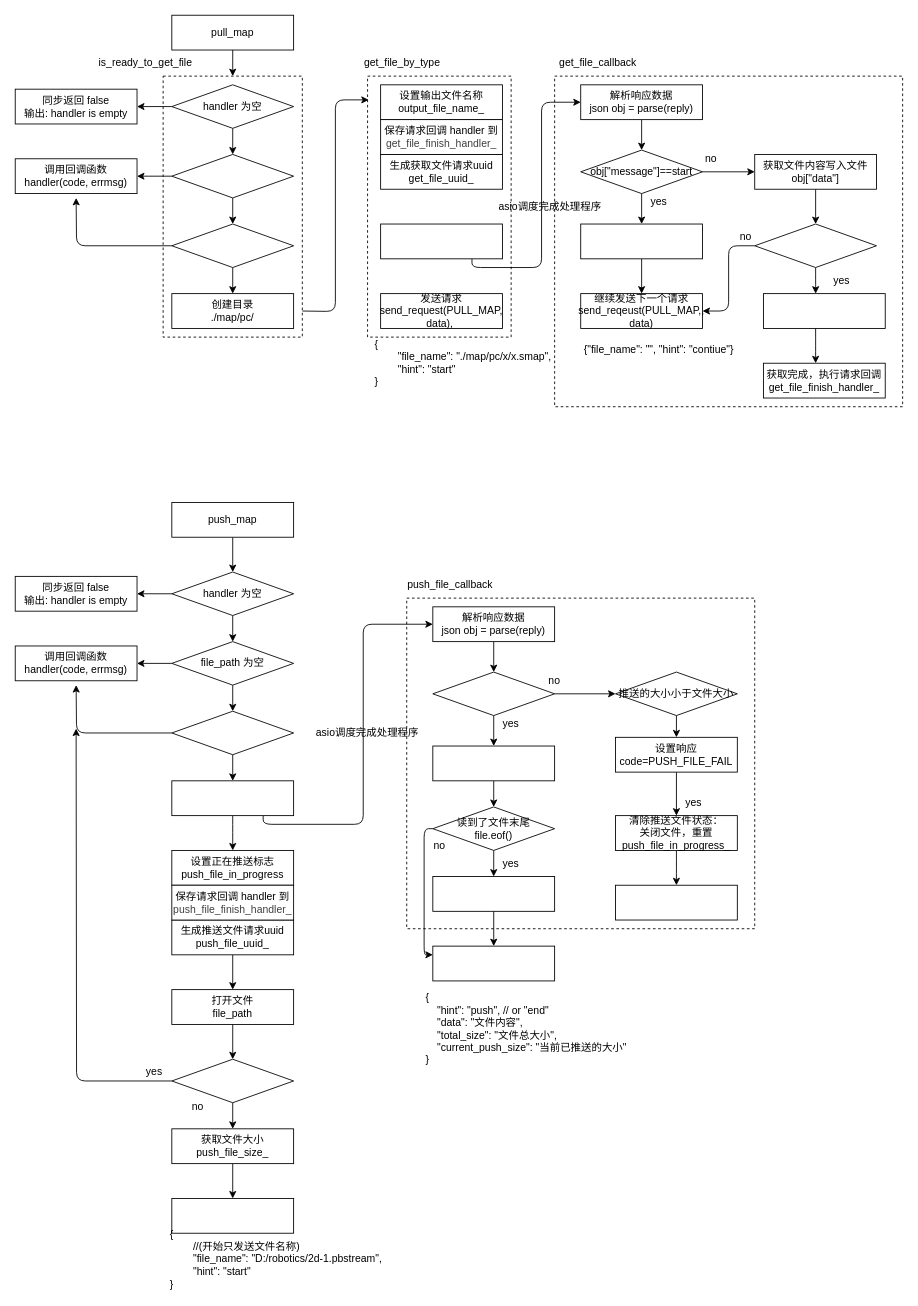
This 918x1306 diagram has some shape labels left out. The box of each missing label's shape, as (x1, y1, x2, y2) in pixels:
file_name 为空: (171, 154, 294, 198)
hint="end": (432, 876, 555, 911)
obj["message"]== continue: (432, 671, 555, 716)
obj["message"]==end: (754, 223, 877, 268)
从文件读一块内容发送 一块大小: 8k: (432, 745, 555, 781)
发送请求 send_request(PUSH_MAP, data),: (171, 1198, 294, 1233)
打开失败: (171, 1058, 294, 1103)
接收的是文件名称， 打开文件(清空): (580, 223, 703, 259)
正在推送文件push_file_in_progress_: (171, 710, 294, 755)
正在获取文件get_file_in_progress_: (171, 223, 294, 268)
注册请求 register_handler(PUSH_MAP, push_file_callback): (171, 780, 294, 816)
注册请求 register_handler(req, get_file_callback): (380, 223, 502, 259)
清除获取文件状态： 关闭文件， 重置 get_file_in_progress_: (763, 293, 885, 328)
继续发送下一个请求 send_reqeust(PUSH_MAP,, data): (432, 945, 555, 981)
获取完成，执行请求回调 push_file_finish_handler_: (615, 884, 737, 920)
